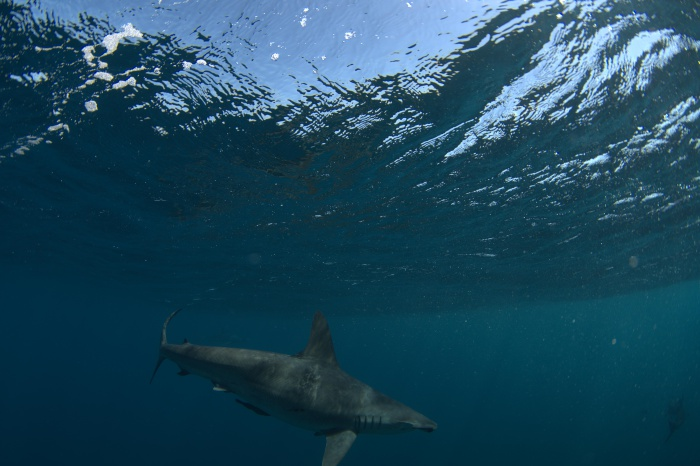Hammer: (137, 296, 412, 466), (326, 257, 505, 382)
